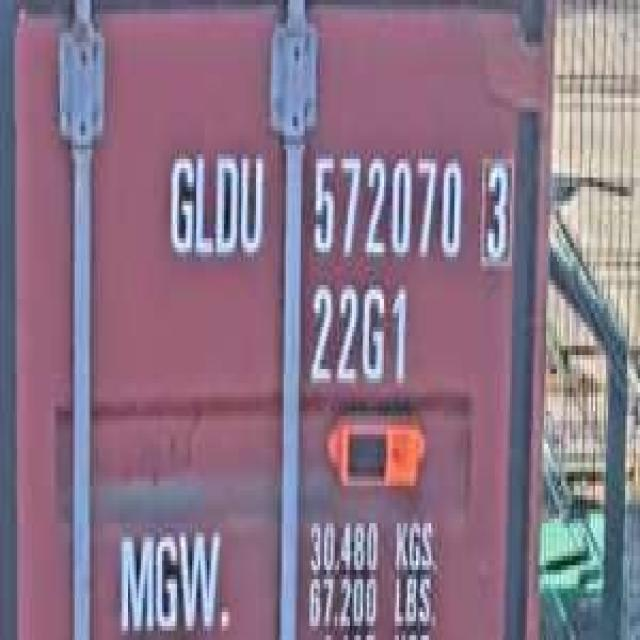dv: (476, 144, 516, 276)
owner: (162, 135, 267, 271)
serial: (307, 140, 465, 266)
size: (305, 276, 412, 397)
